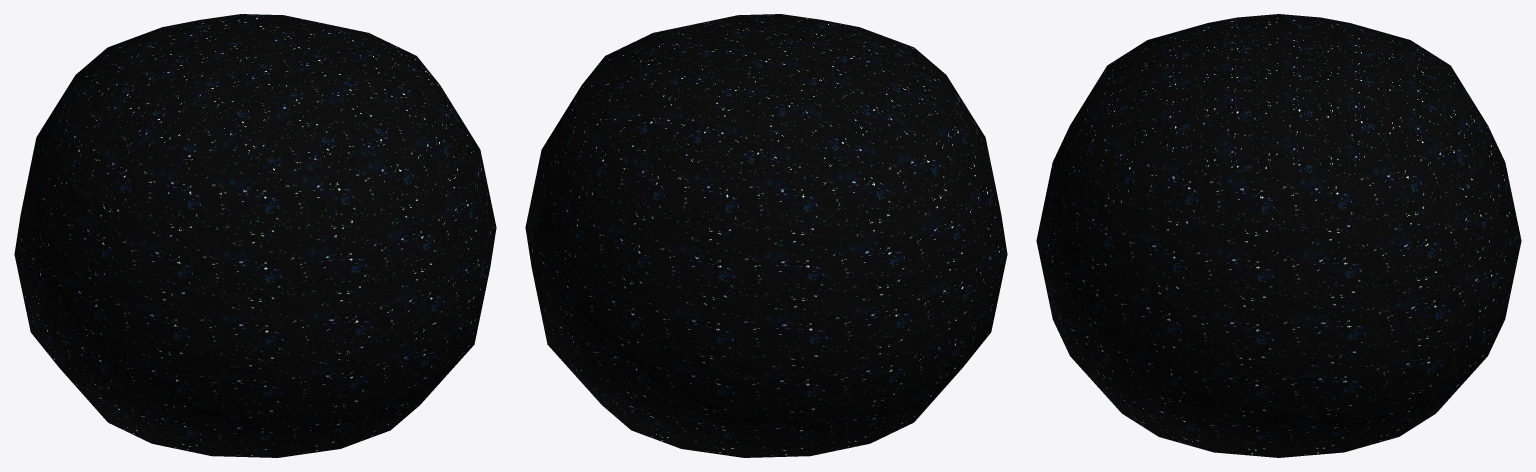
The model's file is Sky.obj.
3 renders of one model, left to right at view 1: azimuth 30°, elevation 25°; view 2: azimuth 150°, elevation 25°; view 3: azimuth 270°, elevation 25°, orthographic.
Bounding box in the file's own units: 12955 × 10689 × 12955.
Materials: 1 (1 with a texture image).
